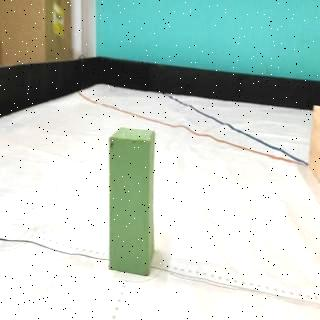greenbox: (109, 126, 154, 274)
